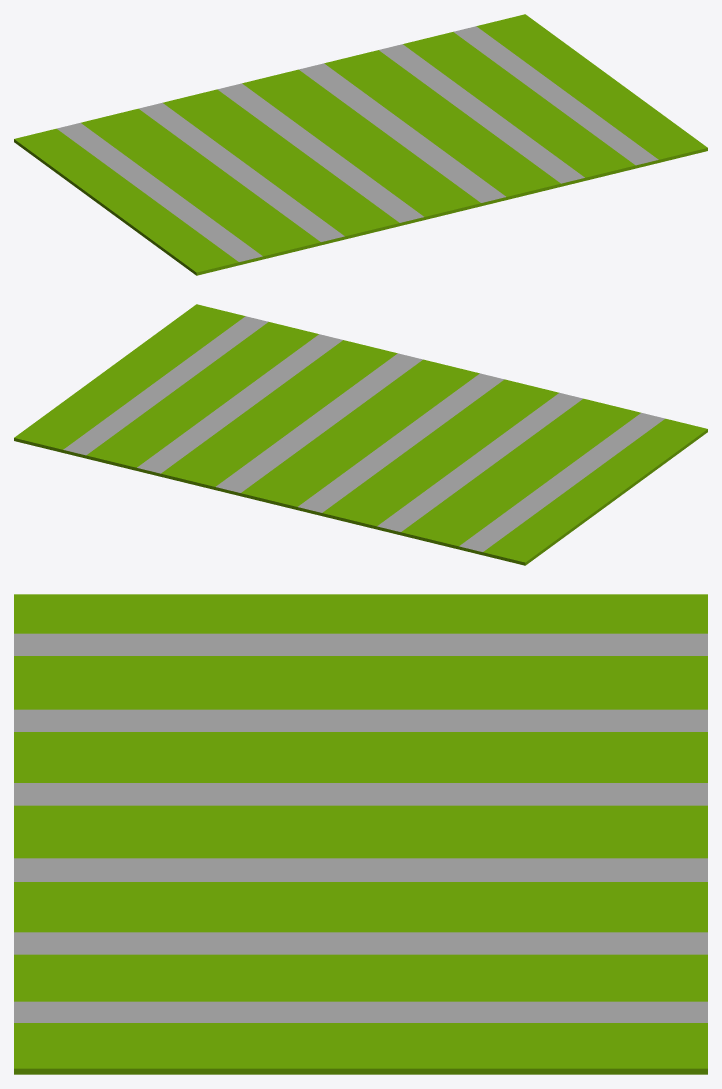
The model's file is floor_x.fbx.
3 renders of one model, top to bottom at view 1: azimuth 30°, elevation 25°; view 2: azimuth 150°, elevation 25°; view 3: azimuth 270°, elevation 25°, orthographic. The views are drawn at different scales.
Visible parts, largest first — view 1: polySurface2664; view 2: polySurface2664; view 3: polySurface2664.
Boxes of the visible parts, <box> form: polySurface2664: <box>14,14,707,275</box>; polySurface2664: <box>14,304,707,565</box>; polySurface2664: <box>14,594,707,1074</box>.
Bounding box in the file's own units: 150 × 0.8874 × 92.45.
